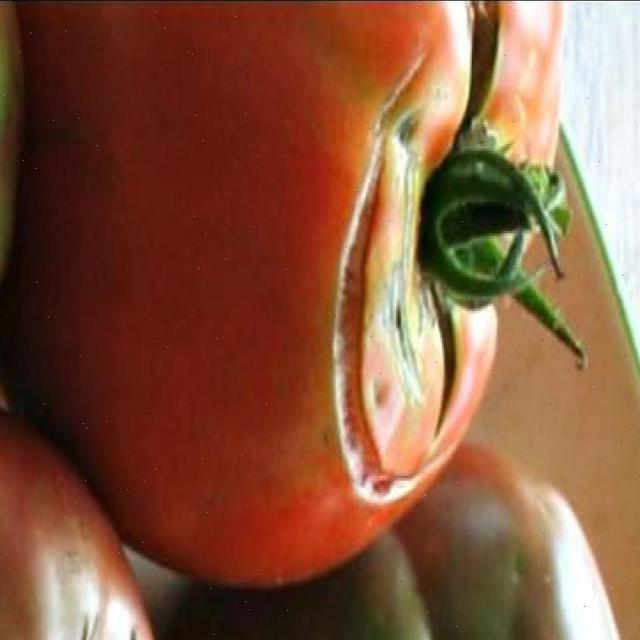Cracking Fruit: (224, 24, 312, 345)
